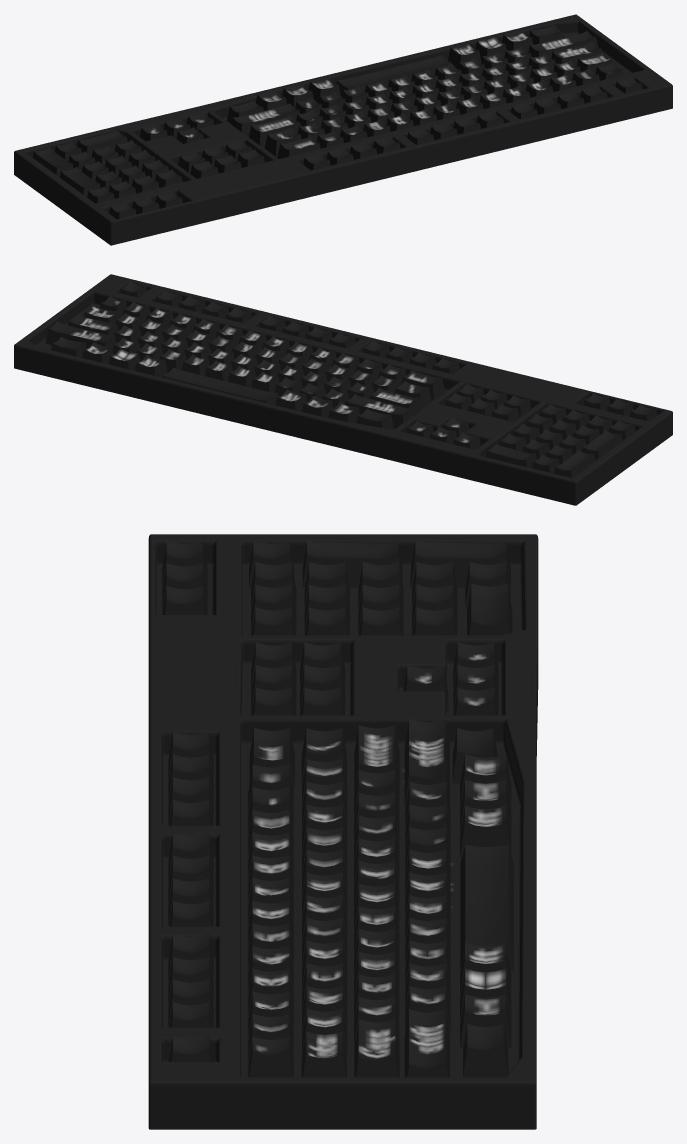
The model's file is keyboard.glb.
3 views of the same model, one above another, from view 1: azimuth 30°, elevation 25°; view 2: azimuth 150°, elevation 25°; view 3: azimuth 270°, elevation 25° (orthographic). The views are drawn at different scales.
Parts seen in each view (by area): view 1: SM_Keyboard; view 2: SM_Keyboard; view 3: SM_Keyboard.
Part boxes in pixels (<box>): SM_Keyboard: <box>14,14,672,245</box>; SM_Keyboard: <box>14,274,672,505</box>; SM_Keyboard: <box>148,534,538,1129</box>.
Size of the model in its own units: 0.485 by 0.0235 by 0.1454.
Materials: 1 (1 with a texture image).
